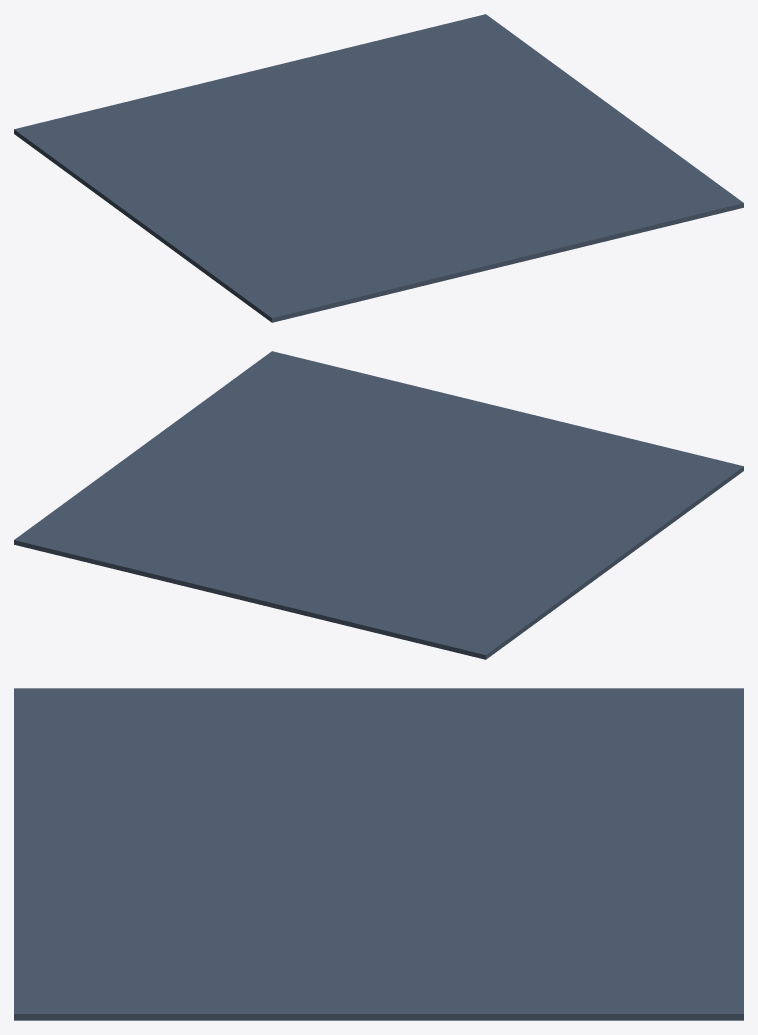
File: floor_003_l_chamber_2_floor_02.obj
3 views of the same model, one above another, from view 1: azimuth 30°, elevation 25°; view 2: azimuth 150°, elevation 25°; view 3: azimuth 270°, elevation 25° (orthographic). The views are drawn at different scales.
Parts seen in each view (by area): view 1: Floor_003_l_chamber_2_floor_02; view 2: Floor_003_l_chamber_2_floor_02; view 3: Floor_003_l_chamber_2_floor_02.
Part boxes in pixels (bbox=[...]): Floor_003_l_chamber_2_floor_02: bbox=[14, 14, 743, 322]; Floor_003_l_chamber_2_floor_02: bbox=[14, 351, 743, 659]; Floor_003_l_chamber_2_floor_02: bbox=[14, 688, 743, 1020].
Size of the model in its own units: 21.12 by 0.2 by 20.
